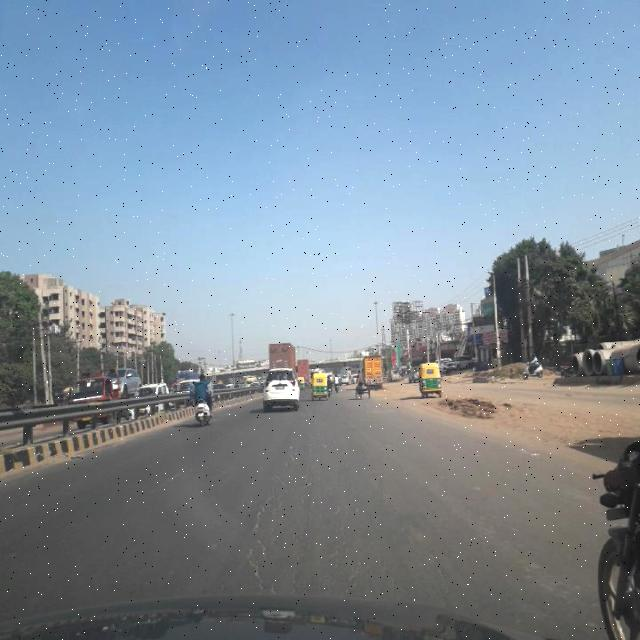D20: (234, 433, 400, 598)
